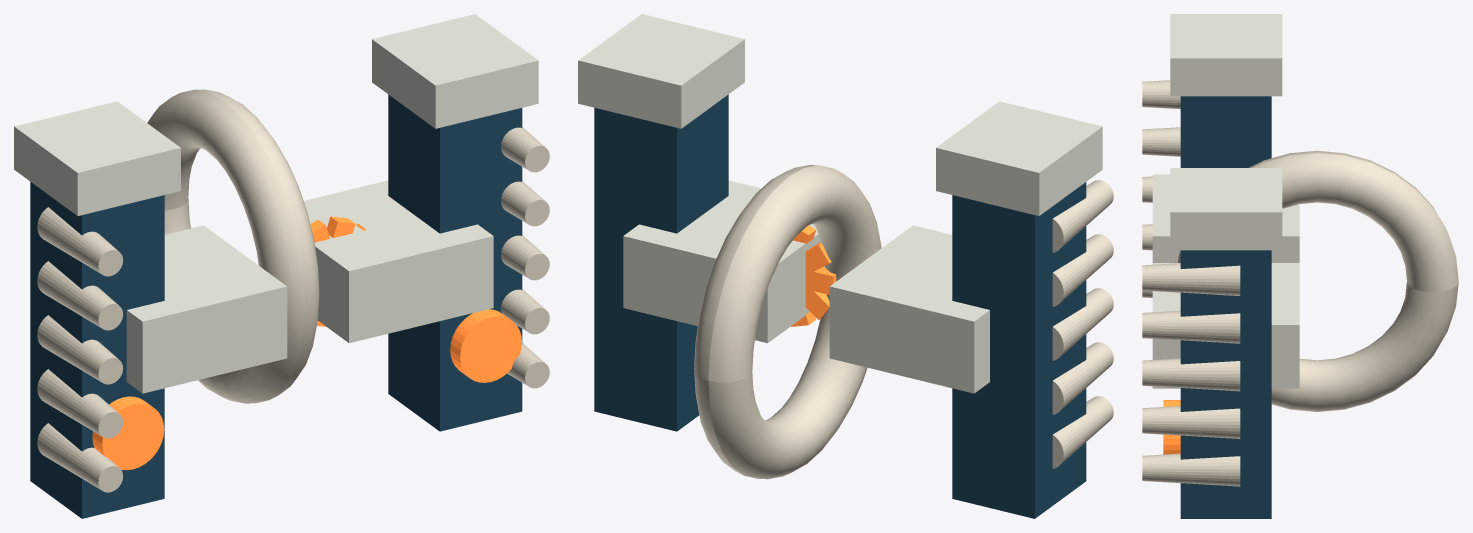
Rendered from landmark-high.glb.
3 views of the same model, side by side, from view 1: azimuth 30°, elevation 25°; view 2: azimuth 150°, elevation 25°; view 3: azimuth 270°, elevation 25° (orthographic). The views are drawn at different scales.
Parts seen in each view (by area): view 1: accent_static, porcelain_static, motion-press_1, motion-turbine, hull_static, motion-press_-1, trim_static; view 2: accent_static, motion-turbine, porcelain_static, motion-press_-1, motion-press_1, hull_static, trim_static; view 3: accent_static, motion-turbine, porcelain_static, hull_static, motion-press_1, motion-press_-1, trim_static.
Boxes of the visible parts, x1,y1,x2,y2 form: accent_static: [30, 94, 522, 518]; porcelain_static: [14, 14, 538, 215]; motion-press_1: [303, 180, 493, 343]; motion-turbine: [147, 89, 319, 403]; hull_static: [37, 127, 549, 492]; motion-press_-1: [126, 225, 287, 393]; trim_static: [92, 216, 521, 470]; accent_static: [594, 94, 1086, 518]; motion-turbine: [694, 165, 881, 479]; porcelain_static: [578, 14, 1102, 215]; motion-press_-1: [829, 225, 989, 393]; motion-press_1: [623, 180, 824, 343]; hull_static: [1052, 180, 1113, 468]; trim_static: [791, 225, 836, 326]; accent_static: [1180, 96, 1271, 518]; motion-turbine: [1178, 150, 1458, 411]; porcelain_static: [1170, 14, 1282, 250]; hull_static: [1142, 80, 1240, 486]; motion-press_1: [1152, 263, 1299, 388]; motion-press_-1: [1152, 174, 1299, 262]; trim_static: [1163, 400, 1180, 454].
Bounding box in the file's own units: 1075 × 784 × 723.
